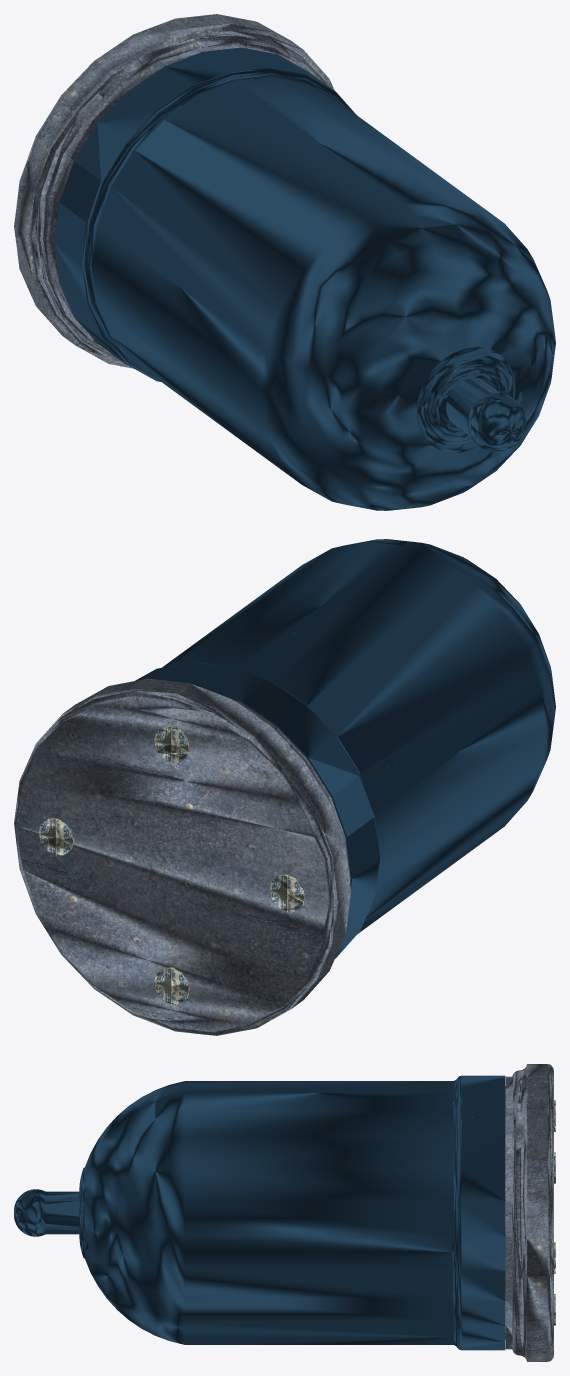
Rendered from model_align.obj.
The picture shows the model from 3 angles, top to bottom: view 1: azimuth 30°, elevation 25°; view 2: azimuth 150°, elevation 25°; view 3: azimuth 270°, elevation 25°; orthographic projection. The views are drawn at different scales.
Size of the model in its own units: 0.1265 by 0.1265 by 0.2292.
